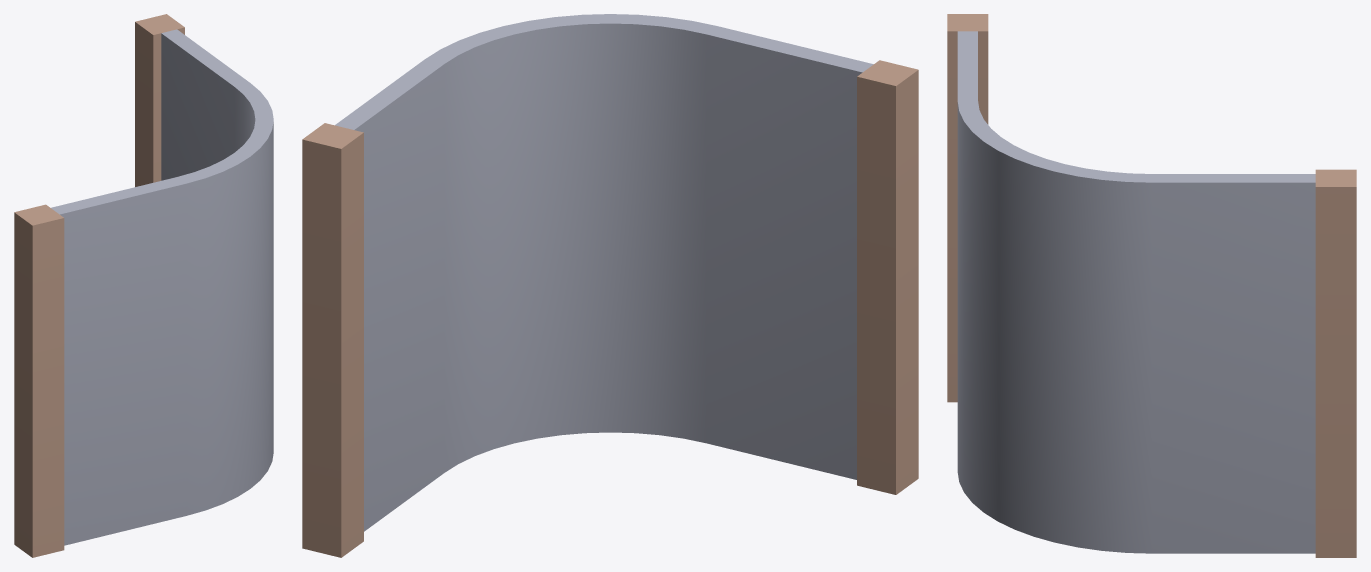
Rendered from wall-rounded.glb.
3 renders of one model, left to right at view 1: azimuth 30°, elevation 25°; view 2: azimuth 150°, elevation 25°; view 3: azimuth 270°, elevation 25°, orthographic. The views are drawn at different scales.
Parts seen in each view (by area): view 1: wall-rounded; view 2: wall-rounded; view 3: wall-rounded.
Part boxes in pixels (<box>): wall-rounded: <box>14,14,273,557</box>; wall-rounded: <box>302,14,918,557</box>; wall-rounded: <box>947,14,1356,557</box>.
Bounding box in the file's own units: 1 × 1 × 1.
